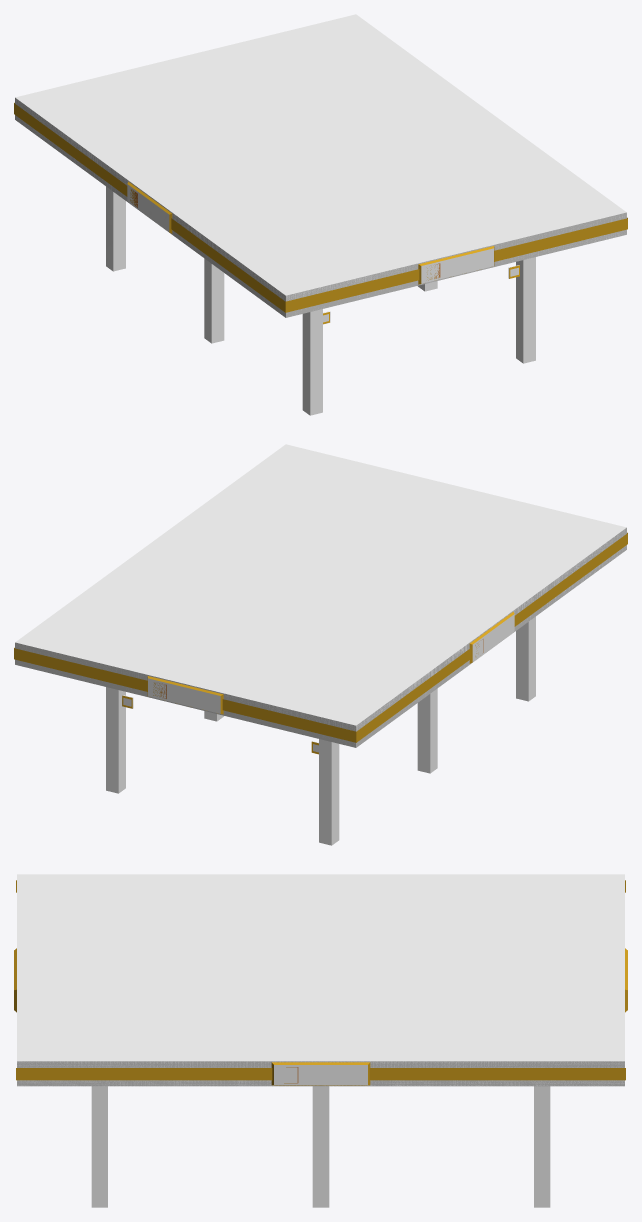
Rendered from s_fuel_structure_01.dae.
3 renders of one model, top to bottom at view 1: azimuth 30°, elevation 25°; view 2: azimuth 150°, elevation 25°; view 3: azimuth 270°, elevation 25°, orthographic. The views are drawn at different scales.
Parts seen in each view (by area): view 1: s_fuel_structure_01_L40, s_fuel_structure_01_L200, s_fuel_structure_01_L2000, s_fuel_structure_01_L4000, s_fuel_structure_01_L1000, Colmesh_s_fuel_structure_01-1; view 2: s_fuel_structure_01_L40, s_fuel_structure_01_L200, s_fuel_structure_01_L2000, s_fuel_structure_01_L4000, s_fuel_structure_01_L1000, Colmesh_s_fuel_structure_01-1; view 3: s_fuel_structure_01_L40, s_fuel_structure_01_L200, s_fuel_structure_01_L4000, s_fuel_structure_01_L2000, s_fuel_structure_01_L1000, Colmesh_s_fuel_structure_01-1.
Part boxes in pixels (x1,y1,x2,y2): s_fuel_structure_01_L40: (15, 16, 626, 315); s_fuel_structure_01_L200: (14, 98, 627, 317); s_fuel_structure_01_L2000: (15, 14, 626, 415); s_fuel_structure_01_L4000: (106, 184, 521, 359); s_fuel_structure_01_L1000: (17, 15, 625, 414); Colmesh_s_fuel_structure_01-1: (127, 181, 494, 284); s_fuel_structure_01_L40: (15, 446, 626, 747); s_fuel_structure_01_L200: (14, 527, 627, 747); s_fuel_structure_01_L2000: (15, 444, 626, 845); s_fuel_structure_01_L4000: (106, 614, 533, 845); s_fuel_structure_01_L1000: (18, 445, 624, 844); Colmesh_s_fuel_structure_01-1: (147, 611, 514, 714); s_fuel_structure_01_L40: (17, 874, 624, 1086); s_fuel_structure_01_L200: (16, 880, 625, 1086); s_fuel_structure_01_L4000: (92, 1065, 549, 1207); s_fuel_structure_01_L2000: (17, 874, 624, 1207); s_fuel_structure_01_L1000: (17, 874, 624, 1207); Colmesh_s_fuel_structure_01-1: (14, 948, 627, 1085).
Bounding box in the file's own units: 16.21 × 22.21 × 7.1.
